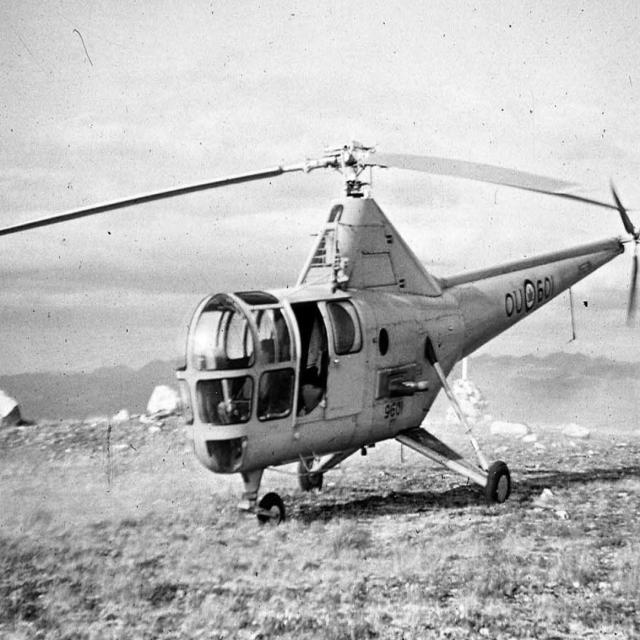helicopter: (1, 136, 640, 533)
